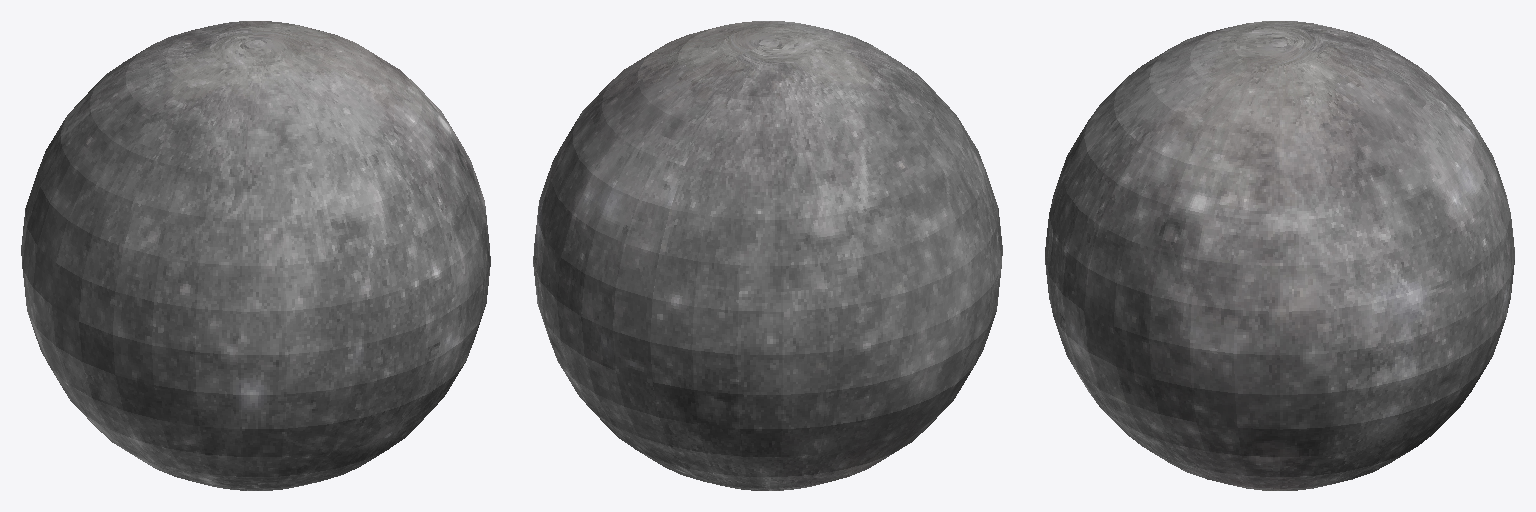
3 views of the same model, side by side, from view 1: azimuth 30°, elevation 25°; view 2: azimuth 150°, elevation 25°; view 3: azimuth 270°, elevation 25° (orthographic).
Visible parts, largest first — view 1: Sphere; view 2: Sphere; view 3: Sphere.
Boxes of the visible parts, box(x1,y1,x2,y2) form: Sphere: box(21, 21, 490, 490); Sphere: box(533, 21, 1002, 490); Sphere: box(1045, 21, 1514, 490).
Size of the model in its own units: 2 by 2 by 2.
1 materials, 1 textured.